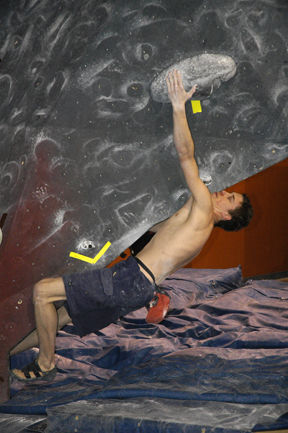person: (10, 69, 255, 386)
